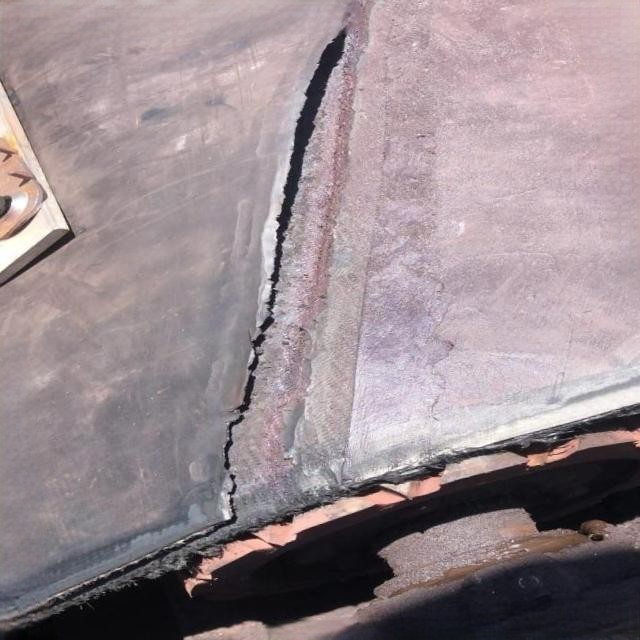Tear: (97, 4, 494, 532)
